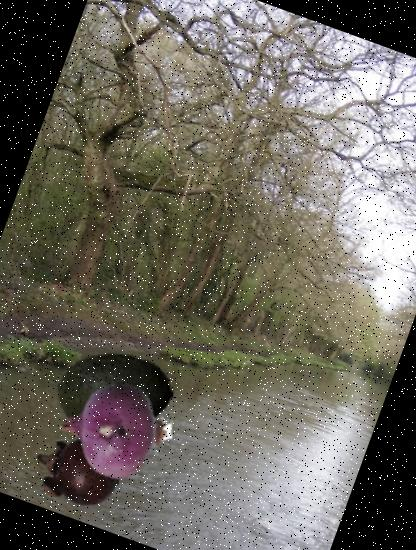Avocado: (40, 320, 188, 470)
Mangostan: (22, 416, 132, 525)
Onion: (44, 358, 188, 503)
